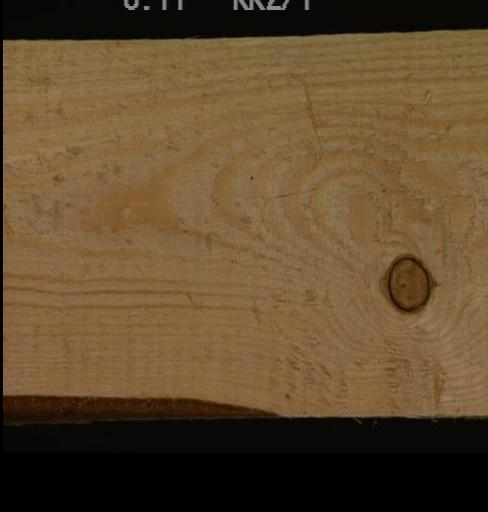dry_knot: (384, 253, 432, 312)
split: (265, 186, 323, 198)
wave: (2, 394, 288, 421)
